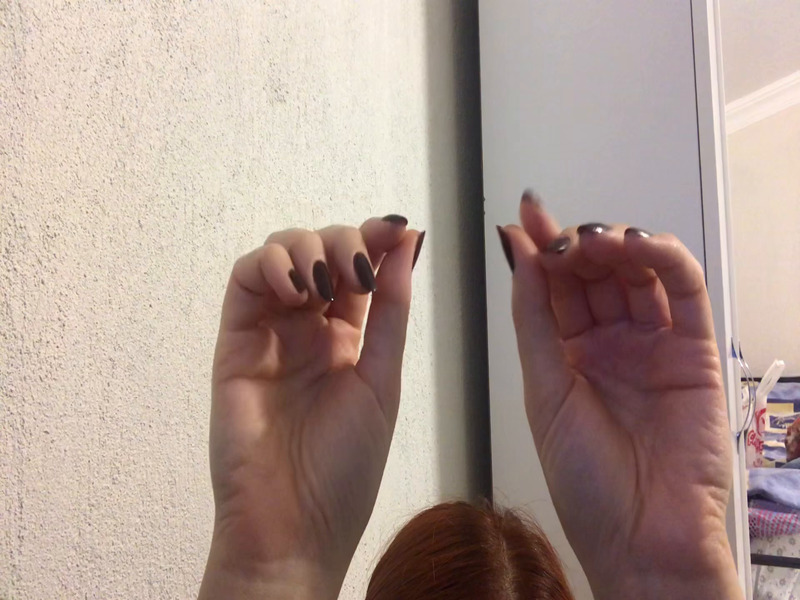hand: (494, 179, 746, 553), (202, 211, 429, 534)
